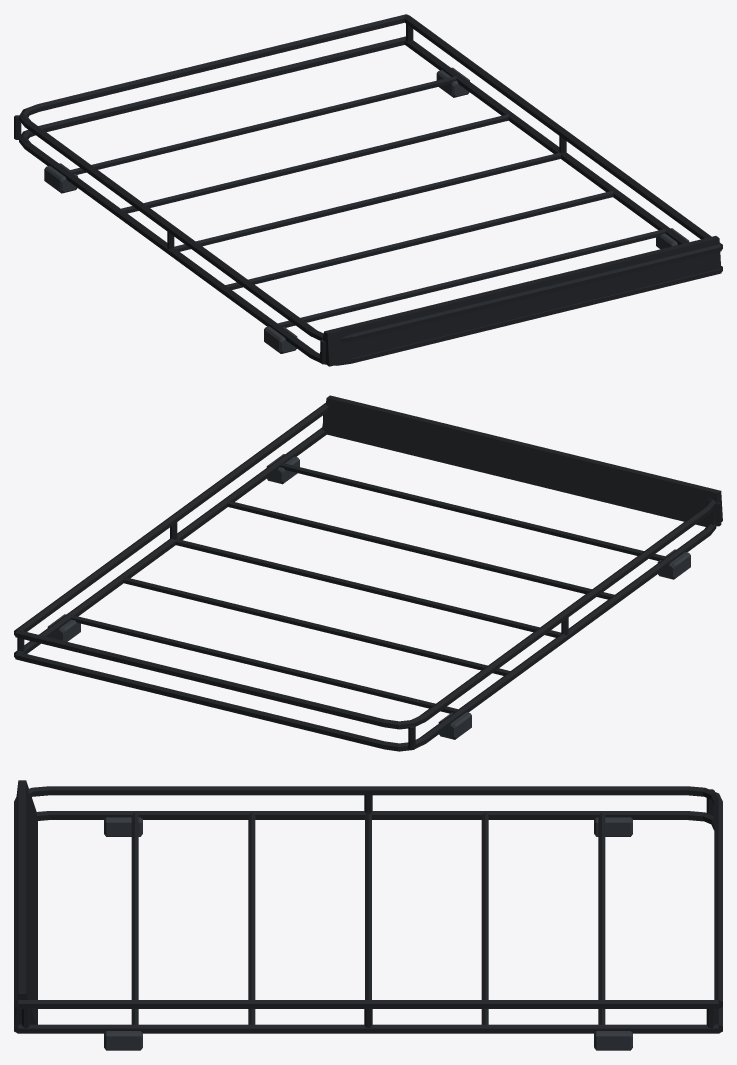
The model's file is ridgeback_4x4_roof_rack.glb.
3 views of the same model, one above another, from view 1: azimuth 30°, elevation 25°; view 2: azimuth 150°, elevation 25°; view 3: azimuth 270°, elevation 25° (orthographic). The views are drawn at different scales.
Visible parts, largest first — view 1: model; view 2: model; view 3: model.
Boxes of the visible parts, bbox=[...] form: model: bbox=[14, 14, 722, 366]; model: bbox=[14, 395, 722, 751]; model: bbox=[14, 780, 722, 1050].
Size of the model in its own units: 1.36 by 0.15 by 1.82.
1 material, 1 textured.
